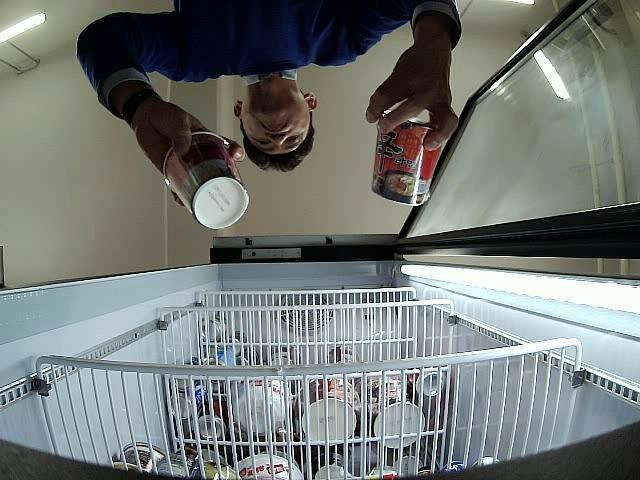02_shinRamen_S: (163, 132, 250, 228), (370, 110, 446, 206)
